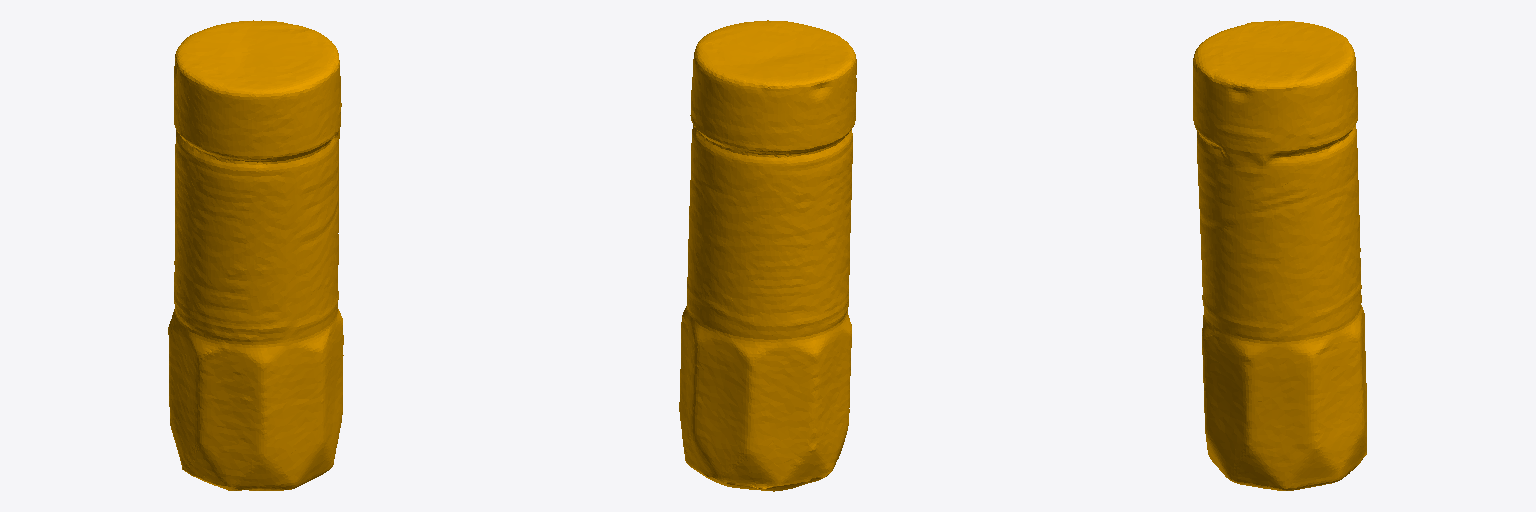
The robot description file, URDF, robot "object":
<?xml version="1.0" encoding="utf-8"?>
<robot name="object">
          <link name="object">
            <visual>
              <origin xyz="0.0 0.0 0.0" />
              <geometry>
                <mesh filename="package://scene_generation/object/kit/Curry/Curry.stl" scale="1.00 1.00 1.00" />
              </geometry>
            </visual>
            <collision>
              <origin xyz="0.0 0.0 0.0" />
              <geometry>
                <mesh filename="package://scene_generation/object/kit/Curry/Curry.stl" scale="1.00 1.00 1.00" />
              </geometry>
            </collision>
          </link>
        </robot>

--- What the picture shows (computed from the rendered views, not written in the file) ---
Views: 3 orthographic renders of the robot side by side, from view 1: azimuth 30°, elevation 25°; view 2: azimuth 150°, elevation 25°; view 3: azimuth 270°, elevation 25°.
Model object with 1 links and 0 joints (none), rooted at object, posed every joint at zero.
Visible links, largest first — view 1: object; view 2: object; view 3: object.
Boxes of the visible links, x1,y1,x2,y2 form: object: (168, 20, 343, 490); object: (679, 20, 856, 491); object: (1193, 20, 1366, 490).
Bounding box of the posed robot: 0.044 × 0.0455 × 0.1183 m (x, y, z).
1 mesh visuals loaded from 1 distinct referenced files (1 binary STL).
